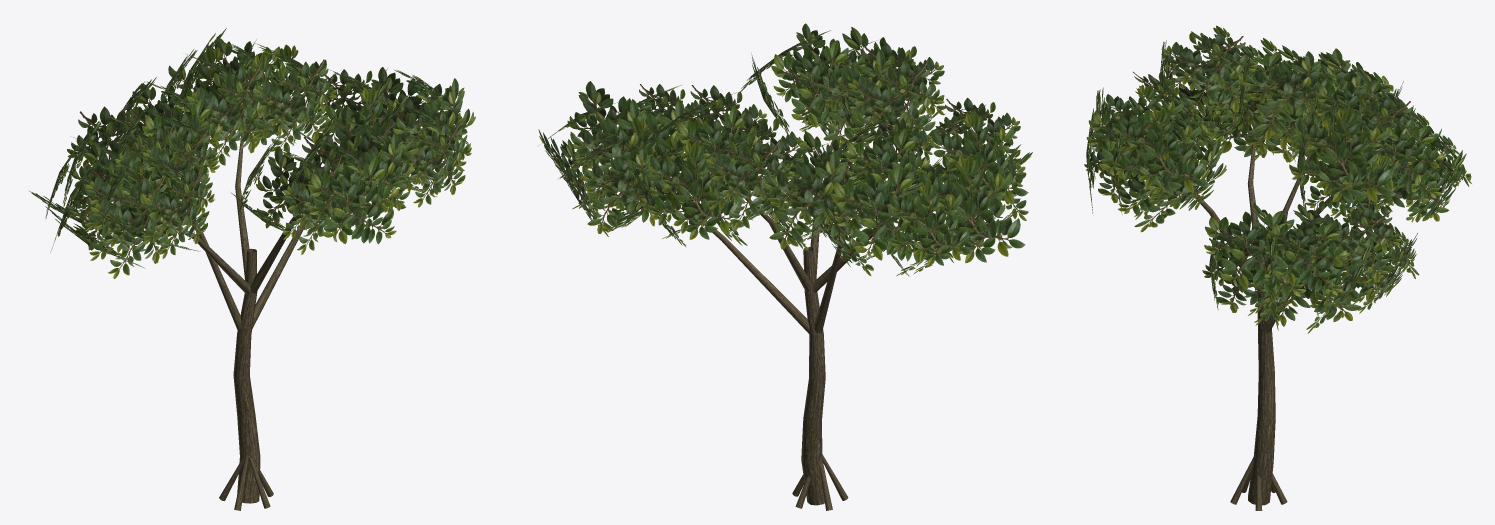
Rendered from tree_lod_03.glb.
3 views of the same model, side by side, from view 1: azimuth 30°, elevation 25°; view 2: azimuth 150°, elevation 25°; view 3: azimuth 270°, elevation 25° (orthographic). The views are drawn at different scales.
Parts seen in each view (by area): view 1: tree_lod_03; view 2: tree_lod_03; view 3: tree_lod_03.
Boxes of the visible parts, x1=… form: tree_lod_03: x1=28, y1=28, x2=475, y2=510; tree_lod_03: x1=538, y1=23, x2=1032, y2=510; tree_lod_03: x1=1084, y1=25, x2=1471, y2=510.
Bounding box in the file's own units: 10.58 × 9.22 × 8.02.
Materials: 2 (2 with a texture image).
